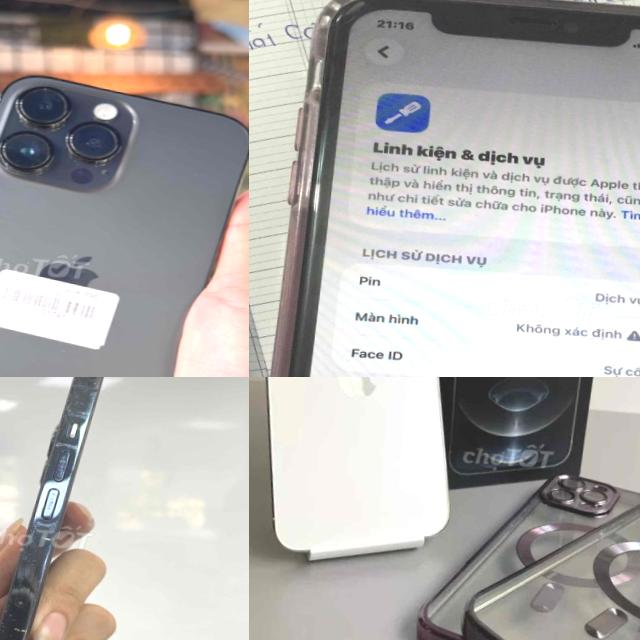gen_11: (256, 0, 640, 377)
gen_12_13: (249, 377, 477, 567), (0, 377, 155, 640)
gen_14: (0, 56, 249, 377)
